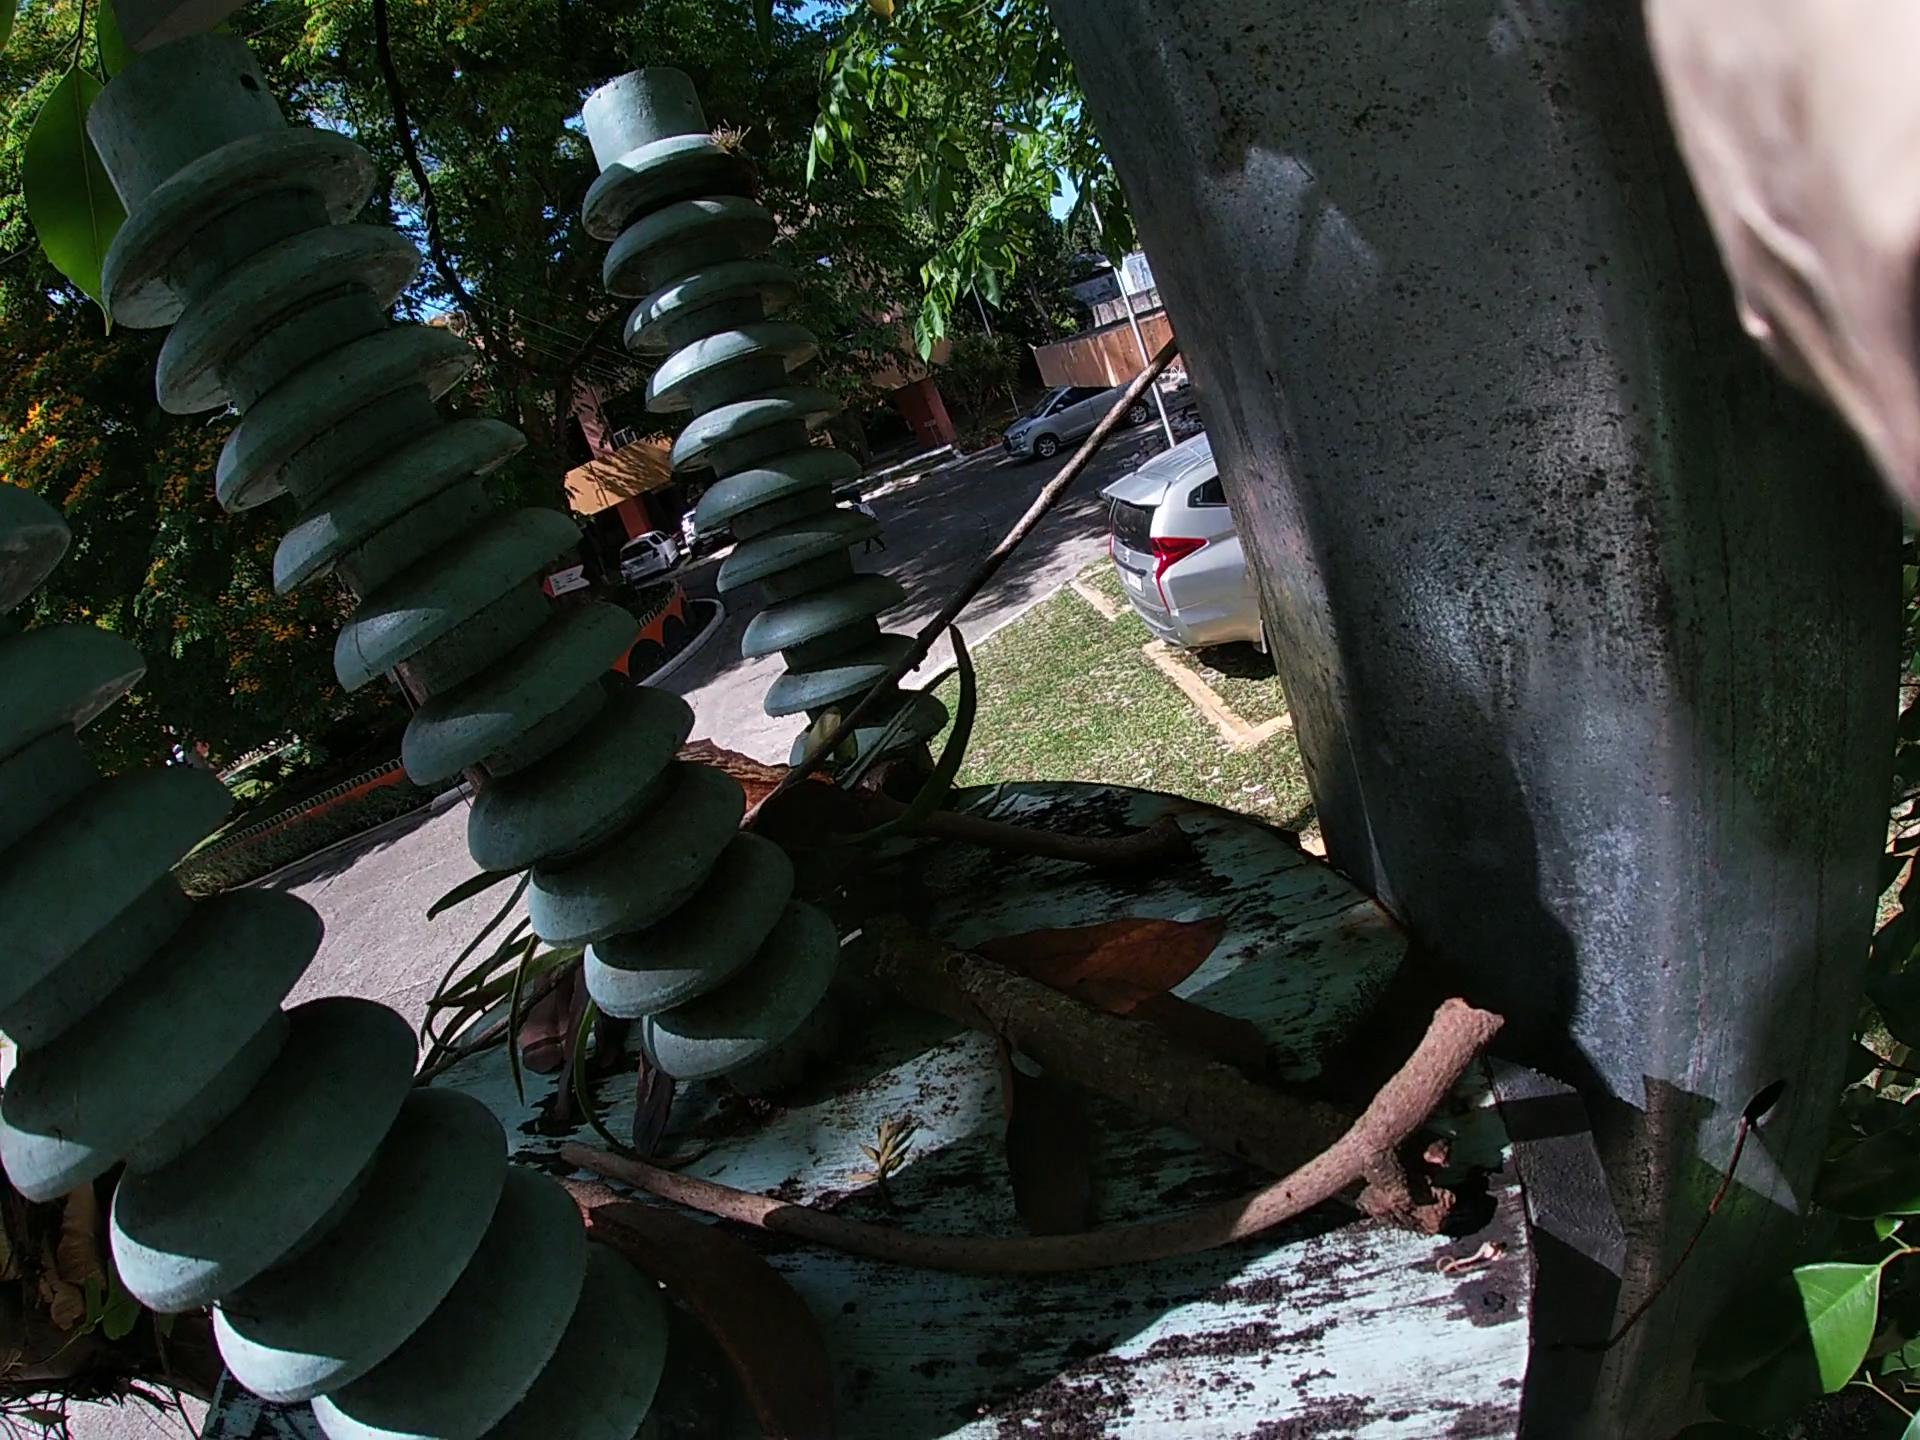branch with leaves: (476, 611, 1398, 1252)
leaf: (966, 889, 1223, 1151)
mahogany fruit: (500, 1106, 831, 1395), (624, 649, 819, 871)
tree branch: (472, 360, 1219, 1071), (779, 715, 1197, 902)
